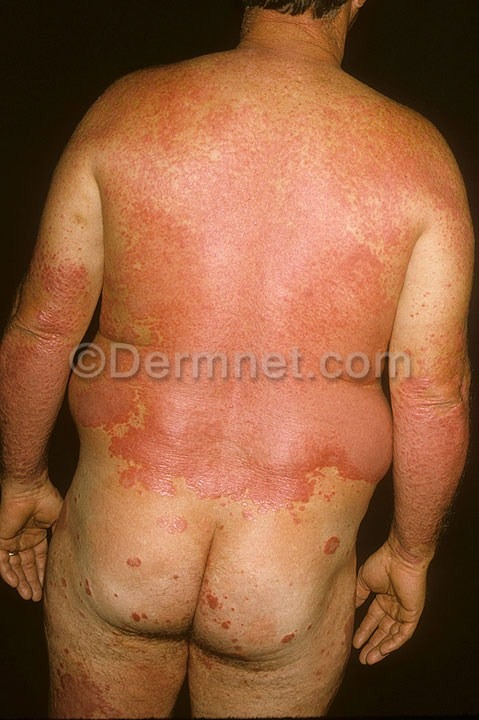Psoriasis: (107, 87, 379, 496), (385, 351, 465, 544), (12, 257, 78, 475), (55, 627, 176, 718), (198, 571, 259, 656), (315, 525, 356, 562), (128, 555, 155, 577)
